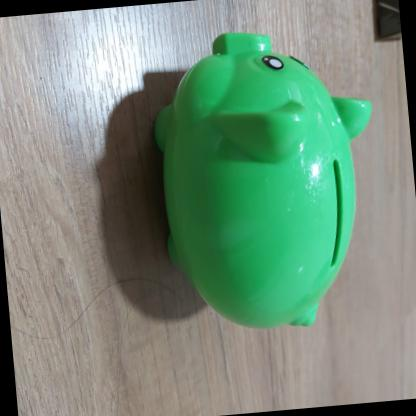plastic: (141, 18, 397, 347)
